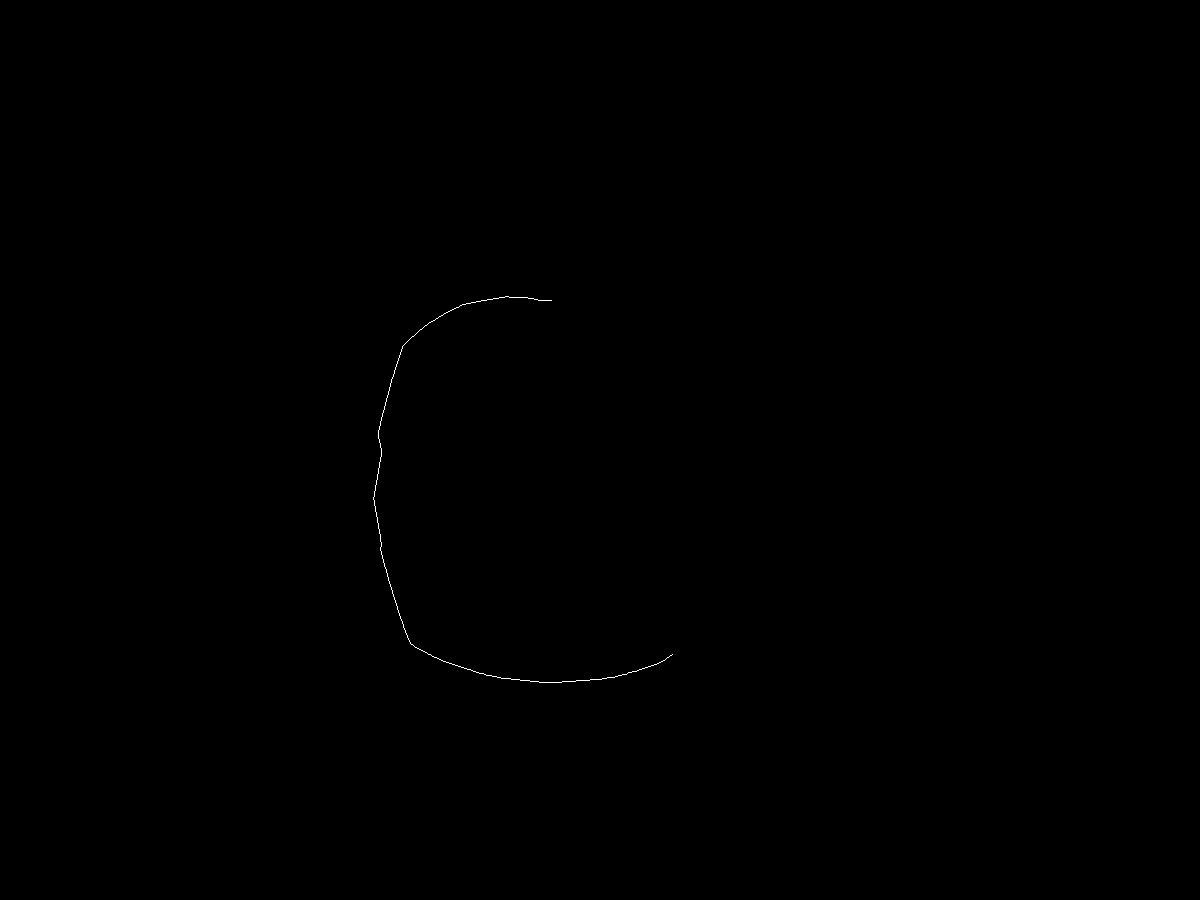dian1: (542, 291, 564, 322)
dian2: (661, 638, 685, 666)
